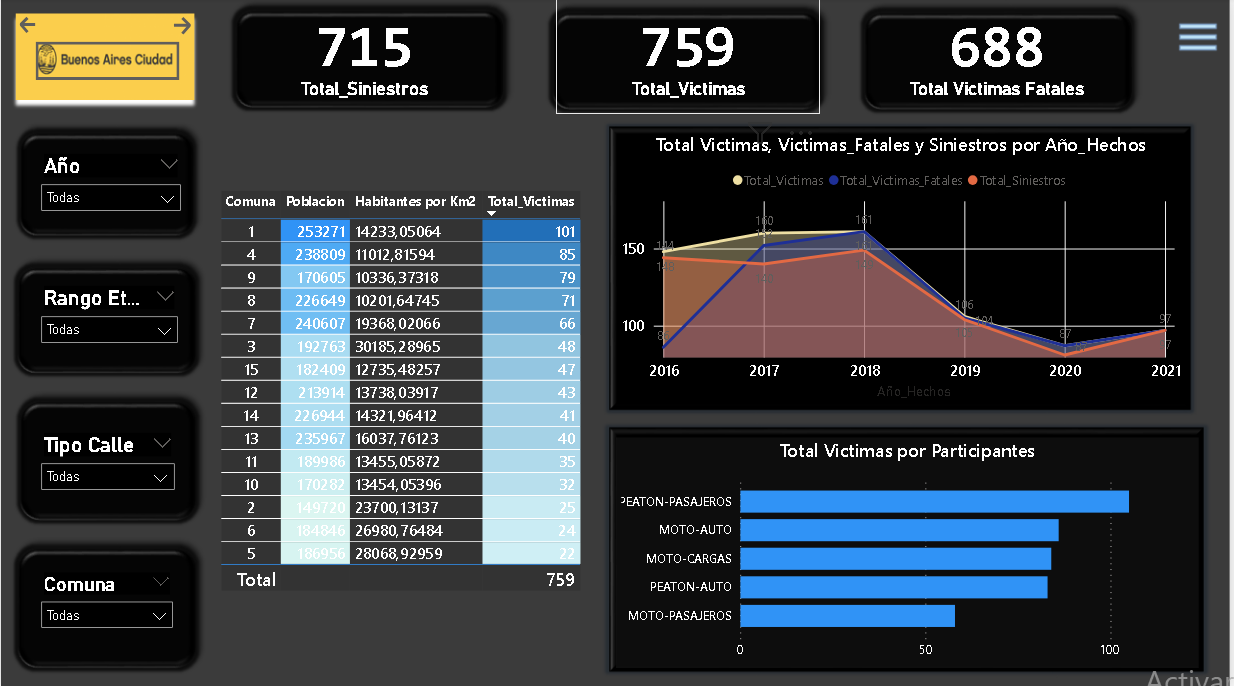

The dashboard page shown, as its layout file describes it:
{"tool":"powerbi","page":{"name":"General","canvas":[1280,720],"ordinal":1},"visuals":[{"type":"clusteredBarChart","title":"Total Victimas por Participantes","fields":{"Category":["Siniestros Viales.Participantes"],"Y":["Medidas.Total_Victimas"]},"box":[640,458.3,606.7,240],"z":0},{"type":"tableEx","fields":{"Values":["Siniestros Viales.Comuna","Siniestros Viales.Poblacion","Siniestros Viales.Habitantes por Km2","Medidas.Total_Victimas"]},"box":[211.4,138.6,391.4,435.7],"z":1000},{"type":"areaChart","title":"Total Victimas,  Victimas_Fatales y Siniestros por Año_Hechos","fields":{"Category":["Siniestros Viales.Año_Hechos"],"Y":["Medidas.Total_Victimas","Medidas.Total_Victimas_Fatales","Medidas.Total_Siniestros"]},"box":[640,138.3,593.3,283.3],"z":2000},{"type":"card","fields":{"Values":["Medidas.Total_Siniestros"]},"box":[240,0,274.3,120],"z":3000},{"type":"card","fields":{"Values":["Medidas.Total_Victimas"]},"box":[578.6,0,274.3,120],"z":4000},{"type":"card","fields":{"Values":["Medidas.Total_Victimas_Fatales"]},"box":[900,0,275,120],"z":5000},{"type":"slicer","fields":{"Values":["Siniestros Viales.Año_Hechos"]},"box":[18.3,141.7,193.3,108.3],"z":6000},{"type":"slicer","fields":{"Values":["Siniestros Viales.Edad"]},"box":[18.3,280,190,111.7],"z":7000},{"type":"slicer","fields":{"Values":["Siniestros Viales.Participantes"]},"box":[18.3,578.3,185,111.7],"z":8000},{"type":"slicer","fields":{"Values":["Siniestros Viales.Victima"]},"box":[18.3,433.3,186.7,115],"z":9000}]}

Visuals, with their boxes in screenshot pixels (x1, y1, x2, y2), scaled from the page's 1280x720 canvas onto the 1234x686 screenshot:
"Total Victimas por Participantes" clusteredBarChart: locate(617, 437, 1202, 665)
tableEx - Siniestros Viales.Comuna x Siniestros Viales.Poblacion: locate(204, 132, 581, 547)
"Total Victimas,  Victimas_Fatales y Siniestros por Año_Hechos" areaChart: locate(617, 132, 1189, 402)
card - Medidas.Total_Siniestros: locate(231, 0, 496, 114)
card - Medidas.Total_Victimas: locate(558, 0, 822, 114)
card - Medidas.Total_Victimas_Fatales: locate(868, 0, 1133, 114)
slicer - Siniestros Viales.Año_Hechos: locate(18, 135, 204, 238)
slicer - Siniestros Viales.Edad: locate(18, 267, 201, 373)
slicer - Siniestros Viales.Participantes: locate(18, 551, 196, 657)
slicer - Siniestros Viales.Victima: locate(18, 413, 198, 522)
